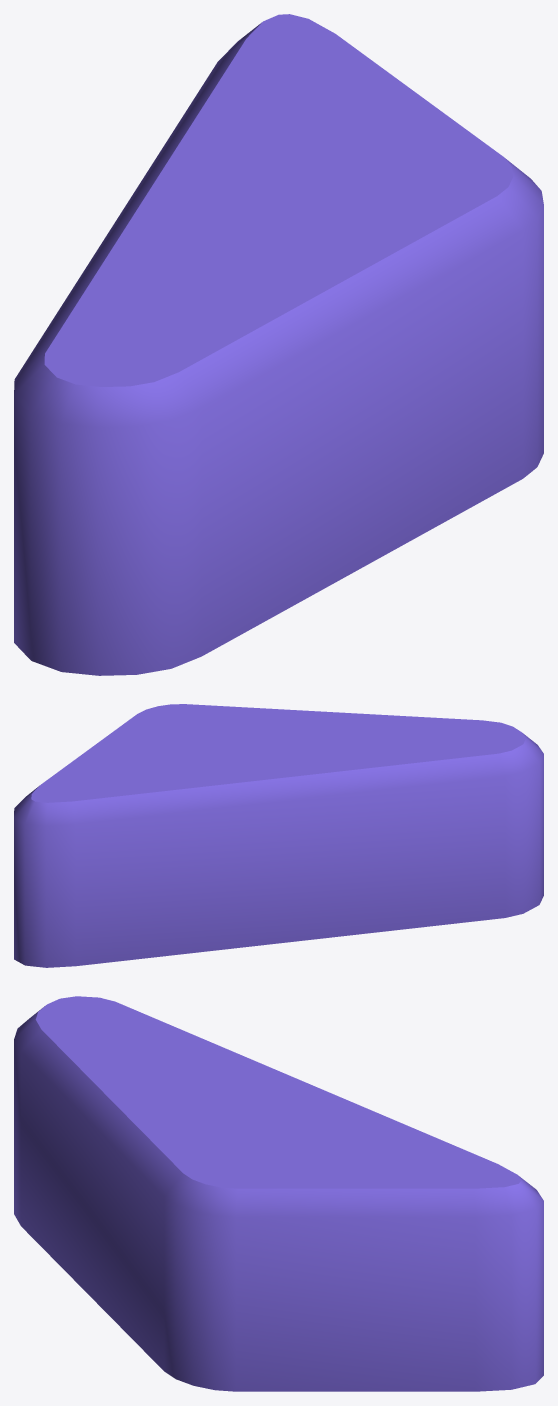
Rendered from Pinball_Triangle_Small_R.fbx.
The picture shows the model from 3 angles, top to bottom: view 1: azimuth 30°, elevation 25°; view 2: azimuth 150°, elevation 25°; view 3: azimuth 270°, elevation 25°; orthographic projection. The views are drawn at different scales.
Visible parts, largest first — view 1: Pinball_Triangle_Small_R; view 2: Pinball_Triangle_Small_R; view 3: Pinball_Triangle_Small_R.
Part boxes in pixels (x1=…): Pinball_Triangle_Small_R: x1=14, y1=14, x2=543, y2=675; Pinball_Triangle_Small_R: x1=14, y1=704, x2=543, y2=967; Pinball_Triangle_Small_R: x1=14, y1=996, x2=543, y2=1391.
Size of the model in its own units: 69.96 by 30 by 74.31.
